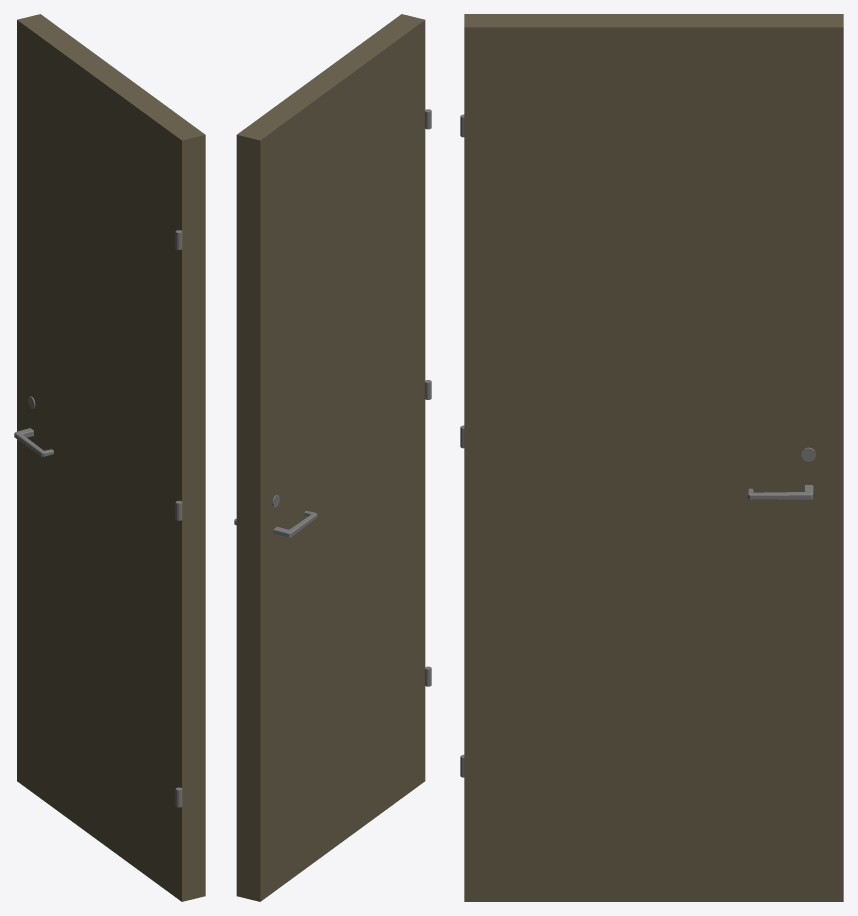
The model's file is single_door.glb.
The picture shows the model from 3 angles, left to right: view 1: azimuth 30°, elevation 25°; view 2: azimuth 150°, elevation 25°; view 3: azimuth 270°, elevation 25°; orthographic projection. The views are drawn at different scales.
Parts seen in each view (by area): view 1: door.001, handle_inside; view 2: door.001, handle_inside; view 3: door.001.
Part boxes in pixels (x1=…): door.001: x1=17, y1=14, x2=205, y2=901; handle_inside: x1=14, y1=428, x2=53, y2=456; door.001: x1=236, y1=14, x2=425, y2=901; handle_inside: x1=273, y1=511, x2=317, y2=537; door.001: x1=464, y1=14, x2=843, y2=901.
Size of the model in its own units: 0.188 by 2.41 by 0.9579.
